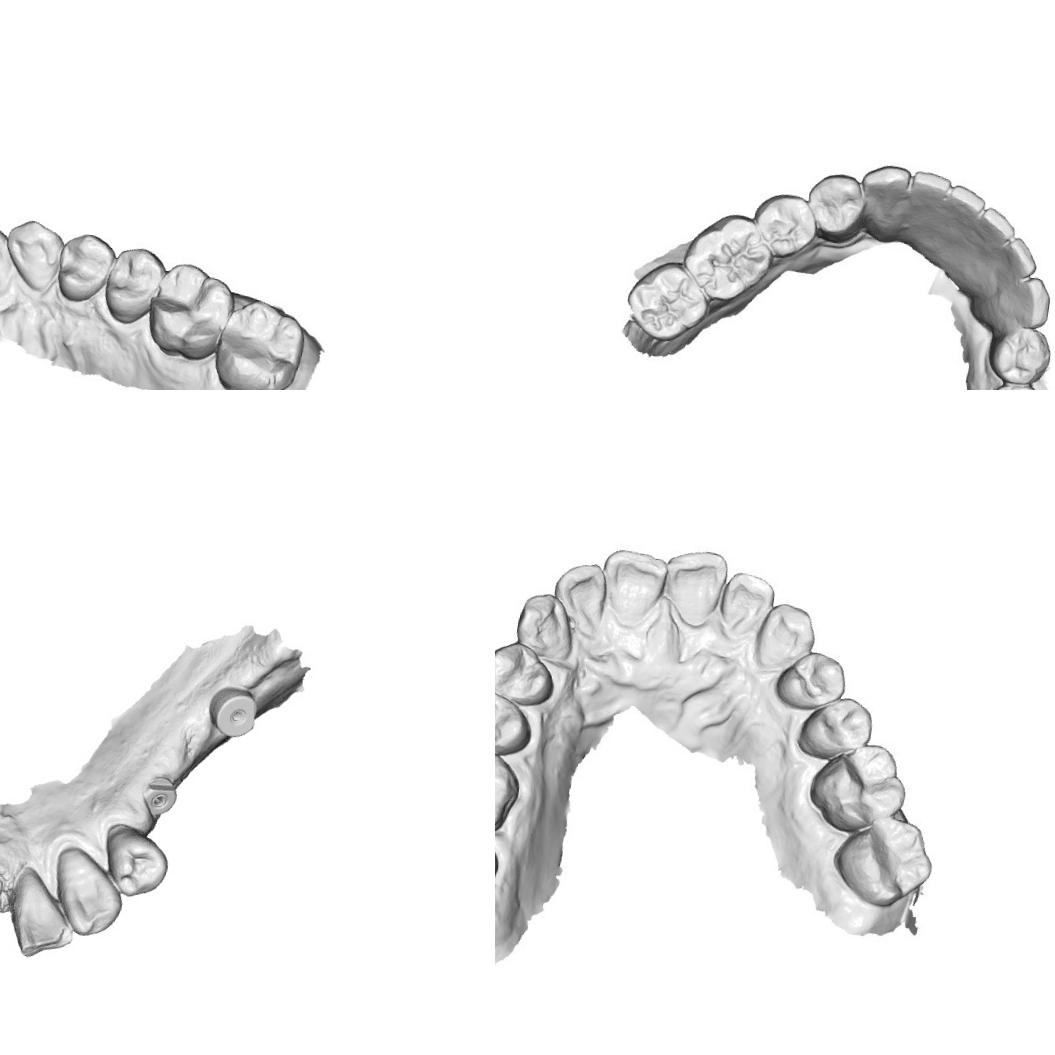canine: (47, 846, 128, 940), (751, 597, 821, 675), (5, 219, 72, 296), (984, 269, 1055, 339), (512, 588, 577, 661), (855, 162, 914, 237)
implant: (204, 679, 260, 737), (134, 773, 181, 816)
incisor: (7, 868, 81, 963), (598, 546, 668, 630), (664, 547, 732, 631), (959, 201, 1016, 288), (716, 572, 774, 649), (552, 560, 612, 634), (903, 170, 952, 258), (936, 182, 984, 269), (980, 238, 1032, 312), (0, 219, 21, 301)
molar: (829, 809, 940, 912), (805, 734, 909, 840), (141, 260, 236, 366), (212, 293, 310, 390), (682, 210, 777, 304), (624, 257, 713, 342), (495, 739, 523, 836)
premolar: (98, 818, 174, 903), (793, 695, 874, 766), (101, 243, 164, 330), (772, 647, 850, 716), (495, 636, 559, 711), (56, 230, 115, 305), (754, 192, 814, 264), (804, 170, 864, 240), (495, 683, 535, 757), (996, 333, 1051, 383), (988, 379, 1042, 390)
